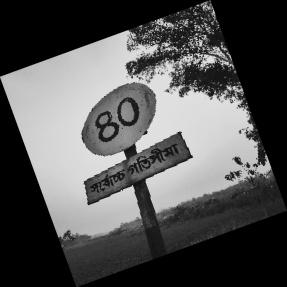Speed-limit: (79, 80, 190, 205)
